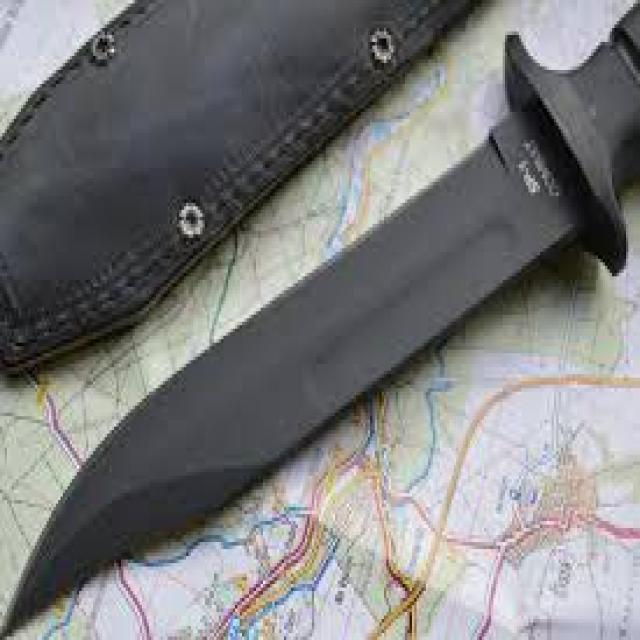Knife: (2, 3, 638, 637)
